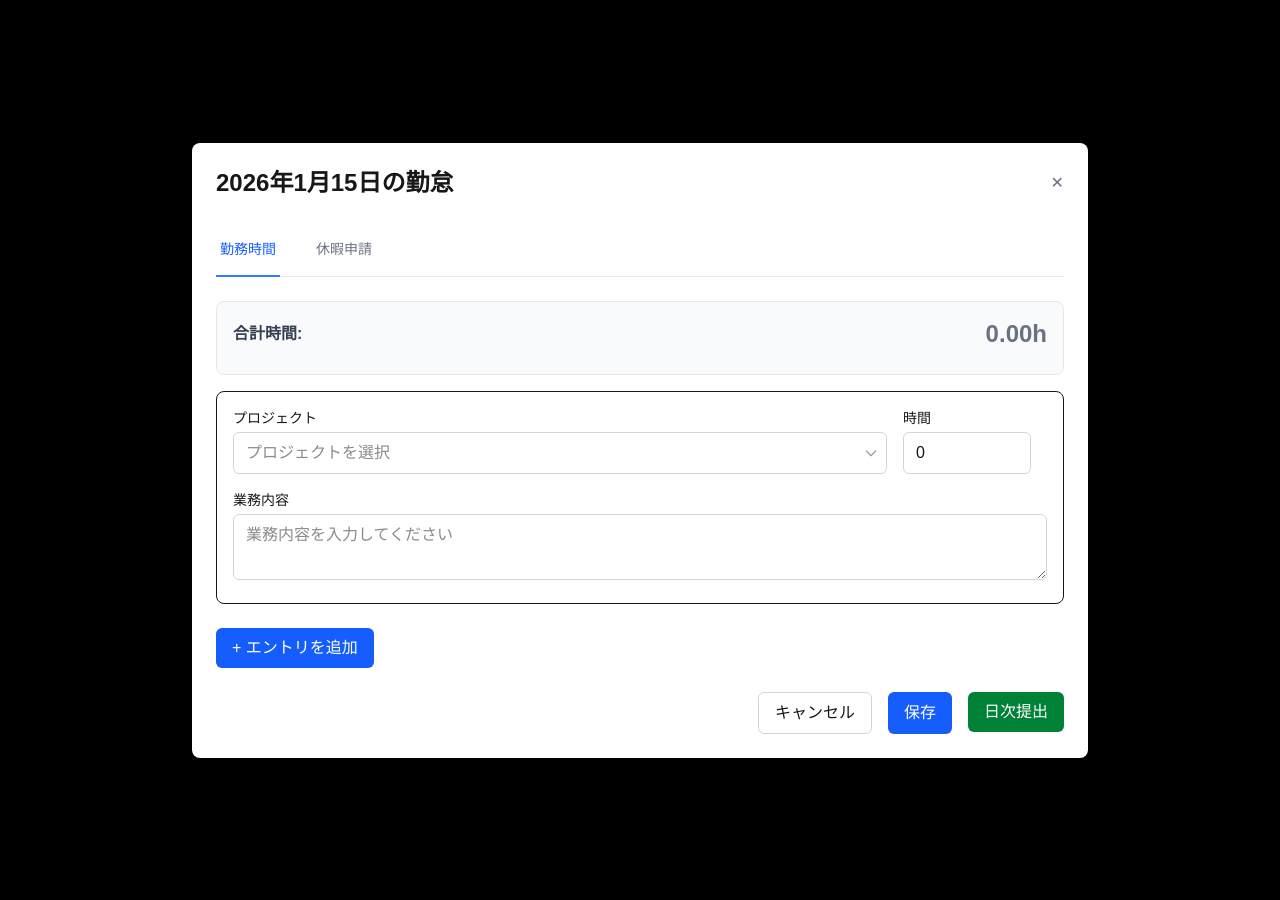
Test: DailyEntryForm › Multi-Project Entry › should remove a project row when Remove button is clicked
Check: the dropdown labelled "プロジェクト" is shown, box [233, 432, 887, 474]
What coordinates should you click on to do the following:
click the button "+ エントリを追加"
I would click on:
 (295, 648)
Its box is [216, 628, 374, 668].
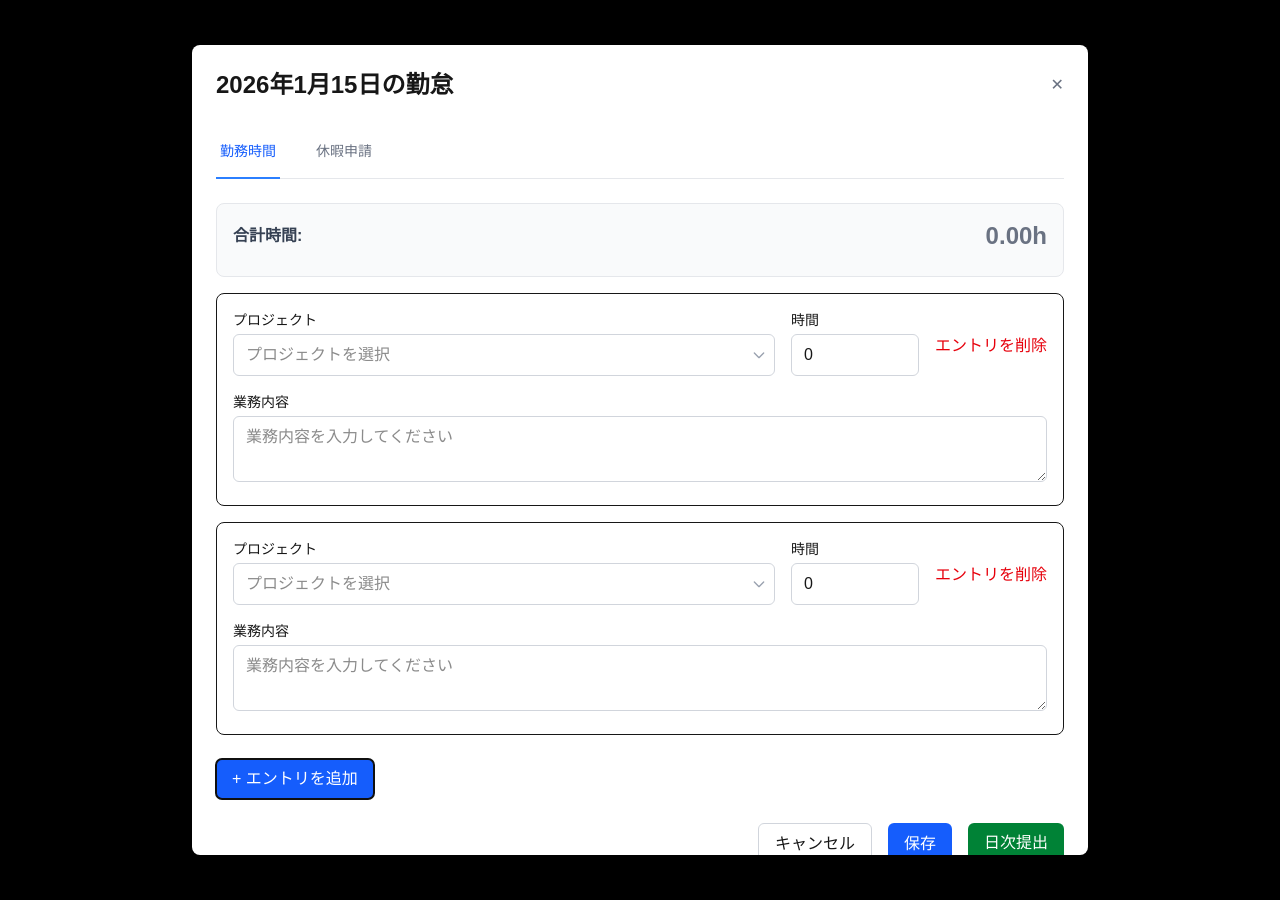
Check: the number of dropdowns labelled "プロジェクト" is 2, box [233, 334, 775, 376]; [233, 563, 775, 605]
What coordinates should you click on to do the following:
click the button with aria-label "Remove project entry"
I would click on:
 (991, 346)
Its box is [935, 334, 1047, 358].
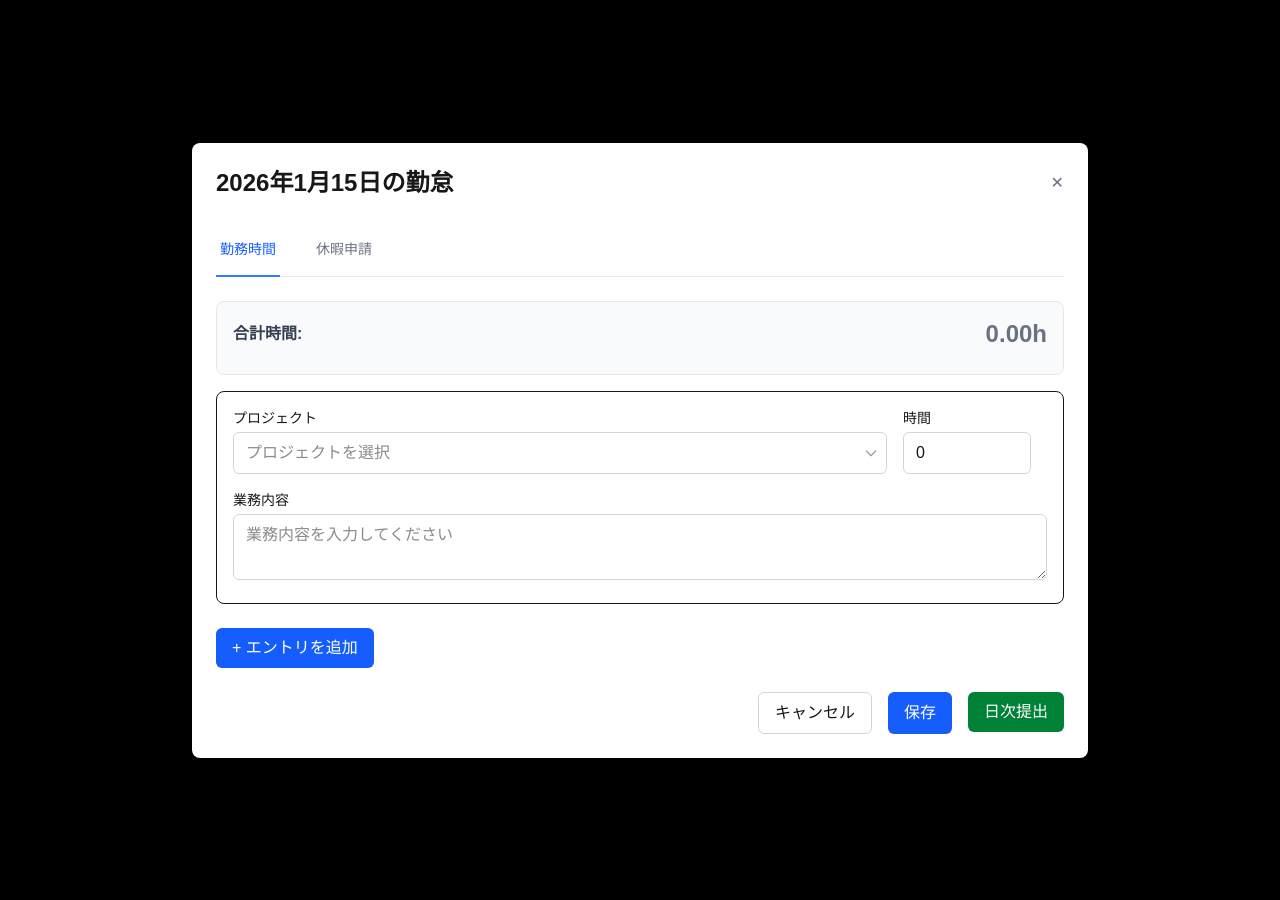
Check: the number of dropdowns labelled "プロジェクト" is 1, box [233, 432, 887, 474]
